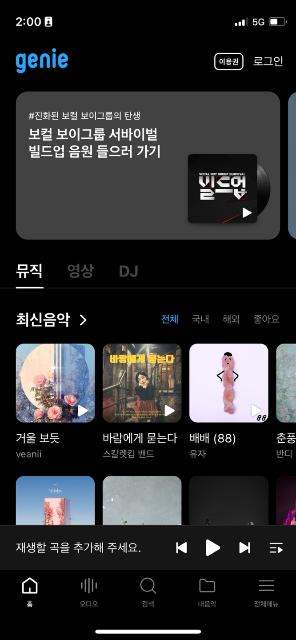Bottom_Navigation: (0, 570, 296, 640)
Card: (17, 93, 281, 240)
Icon: (22, 577, 38, 595), (80, 578, 98, 594), (140, 578, 158, 594), (206, 538, 220, 558), (258, 579, 276, 593), (200, 578, 217, 592), (270, 542, 284, 554), (250, 403, 262, 417), (165, 404, 176, 418), (175, 542, 187, 554), (239, 542, 251, 554), (78, 406, 89, 416), (242, 208, 252, 218), (80, 314, 87, 326)
Image: (102, 343, 184, 423), (189, 342, 269, 422), (17, 344, 95, 424), (189, 153, 271, 223)
Multi_Tab: (0, 39, 296, 83), (2, 259, 164, 291)
Text: (28, 127, 162, 159), (16, 542, 142, 552), (28, 112, 140, 120), (104, 432, 178, 444), (17, 312, 71, 328), (16, 433, 59, 445), (191, 434, 236, 444), (15, 263, 43, 279), (67, 263, 94, 279), (103, 450, 153, 458), (254, 56, 282, 68), (254, 314, 280, 326), (120, 264, 138, 278), (16, 450, 41, 458), (192, 314, 210, 324), (162, 314, 178, 324), (223, 313, 239, 323), (254, 601, 280, 607), (198, 600, 217, 608), (220, 59, 238, 66), (191, 450, 205, 458), (80, 601, 98, 607), (142, 600, 154, 608), (27, 600, 33, 608)
TextButton: (15, 47, 68, 73), (214, 52, 244, 70)
TextImageButton: (102, 343, 184, 459), (190, 342, 268, 460), (16, 344, 96, 458), (254, 578, 280, 608), (198, 578, 217, 608), (140, 578, 158, 608), (22, 576, 38, 608), (80, 578, 98, 606)
UpperTaskBar: (0, 0, 296, 38)
